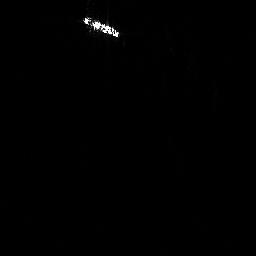ship: (79, 13, 123, 40)
